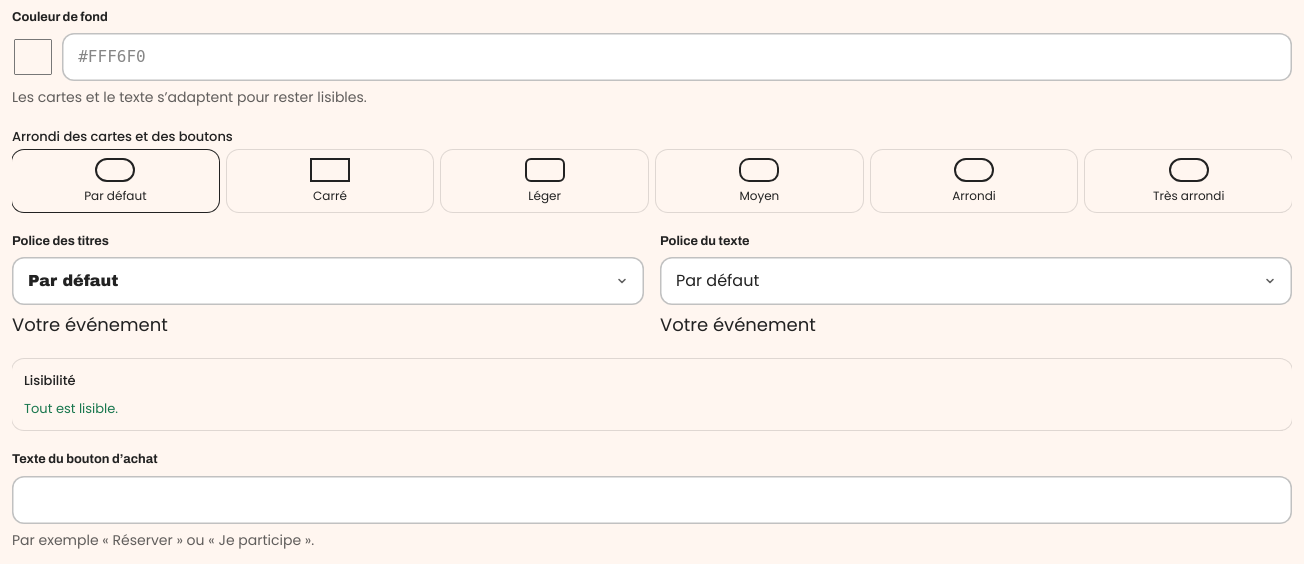
écran de réglage du thème de la billetterie › bouton d'achat et réseaux sociaux : dans l'aperçu et dans le formulaire envoyé
Type "Je participe" into the field with id "buttonLabel" at (652, 500), box [12,476,1292,524]
(page scrolled)
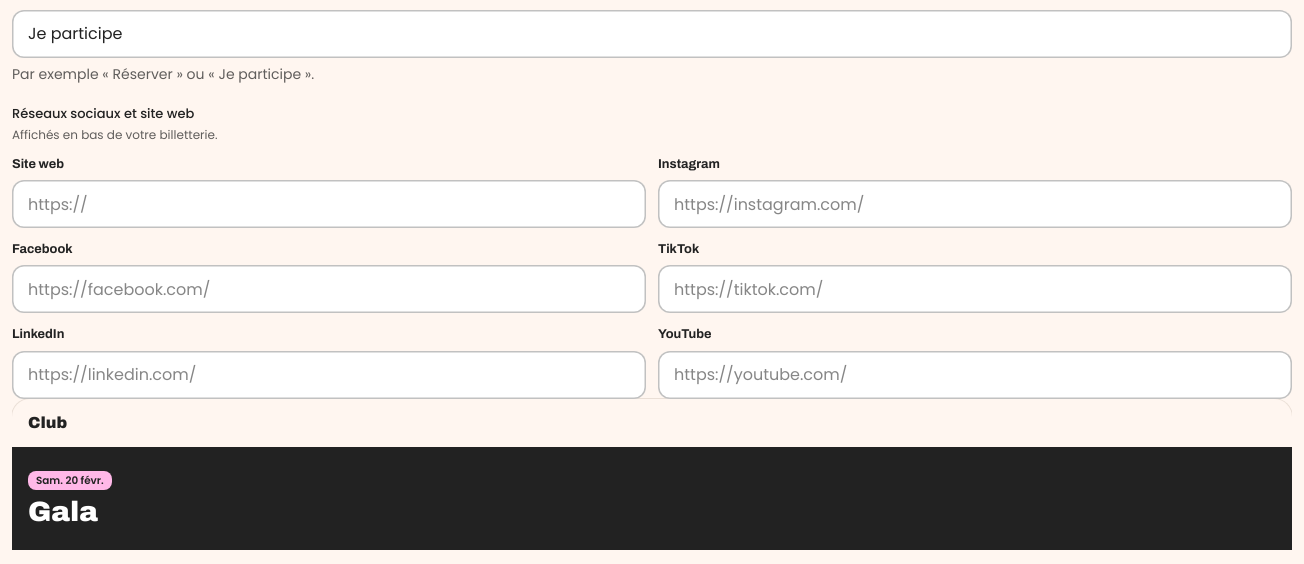
Type "https://instagram.com/club" into the field with id "social_instagram" at (975, 204), box [658,180,1292,228]
(page scrolled)
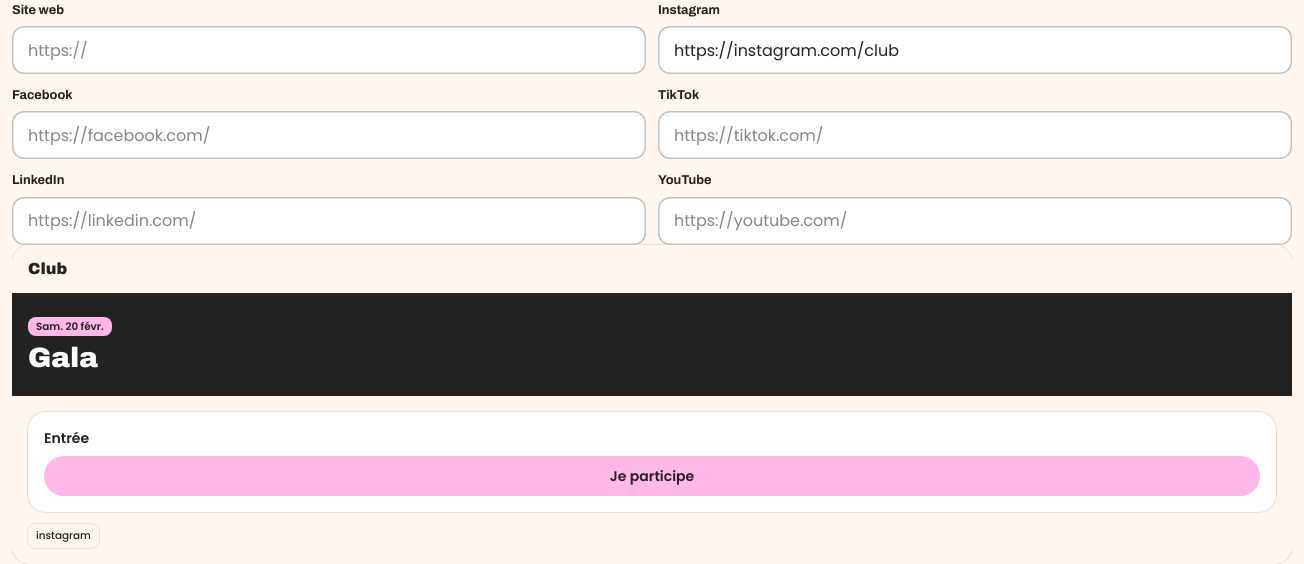
Check: the element with test id "brand-preview" shows "Je participe", box [610,466,694,486]
Check: the element with test id "brand-preview" shows "instagram", box [36,528,91,543]
